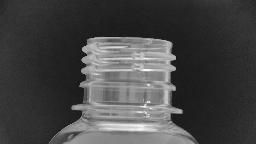No Cap: (68, 33, 186, 117)
